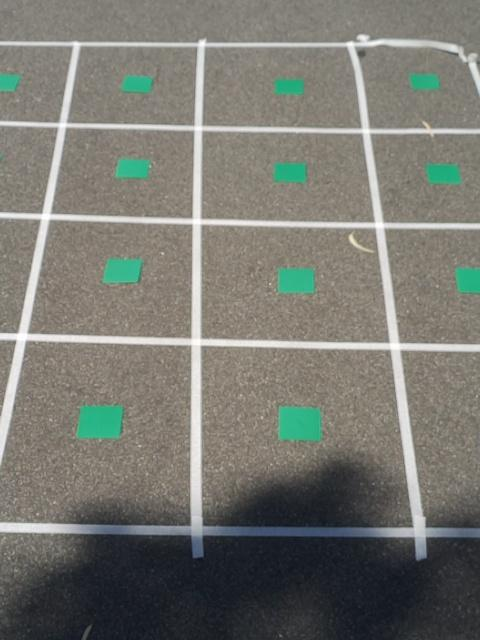weed: (277, 402, 323, 446), (76, 402, 123, 442), (101, 256, 143, 287), (277, 264, 317, 296), (423, 160, 462, 186), (272, 159, 309, 186), (119, 71, 159, 94), (114, 156, 152, 180), (271, 74, 307, 98), (454, 264, 480, 296), (407, 70, 442, 92), (0, 71, 23, 91)
